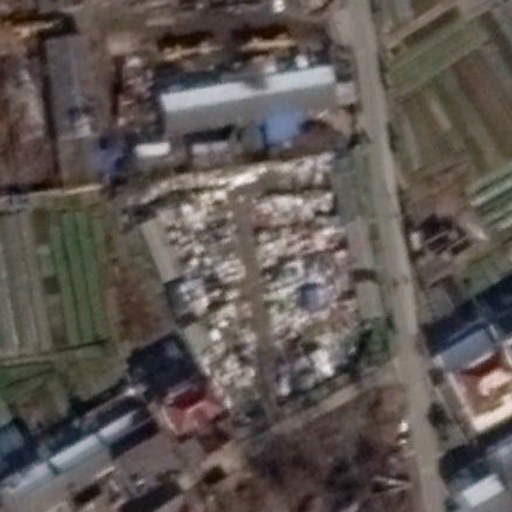msw: (168, 176, 363, 405)
